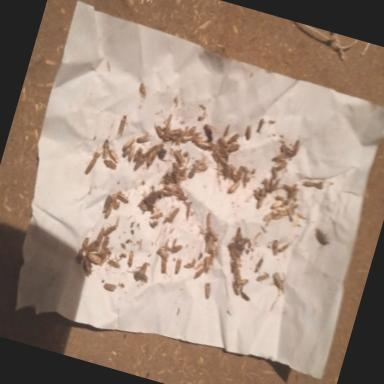pbw: (84, 150, 101, 178), (178, 130, 198, 148), (79, 256, 96, 276), (106, 253, 124, 271), (130, 268, 150, 284), (135, 261, 148, 284), (192, 138, 212, 152), (116, 114, 128, 137), (200, 256, 213, 277), (122, 136, 136, 155), (100, 139, 112, 161), (136, 132, 152, 148), (270, 272, 284, 290), (102, 222, 116, 240), (98, 250, 112, 268), (136, 82, 150, 100), (151, 124, 166, 140), (229, 280, 242, 298), (270, 198, 285, 213), (254, 271, 270, 285), (86, 252, 102, 266), (103, 202, 114, 222), (125, 144, 136, 164), (95, 228, 106, 248), (157, 257, 169, 275), (103, 158, 118, 172), (226, 180, 239, 196), (201, 283, 213, 300), (226, 133, 239, 148), (168, 243, 182, 256), (254, 257, 264, 275), (126, 251, 136, 269), (107, 152, 122, 164), (173, 258, 183, 276), (102, 282, 118, 293), (185, 124, 196, 140), (80, 237, 90, 254), (243, 126, 253, 142), (228, 143, 240, 156), (116, 193, 130, 204), (256, 119, 265, 134), (236, 278, 249, 288), (149, 212, 162, 222), (238, 292, 251, 302), (176, 194, 188, 203)
